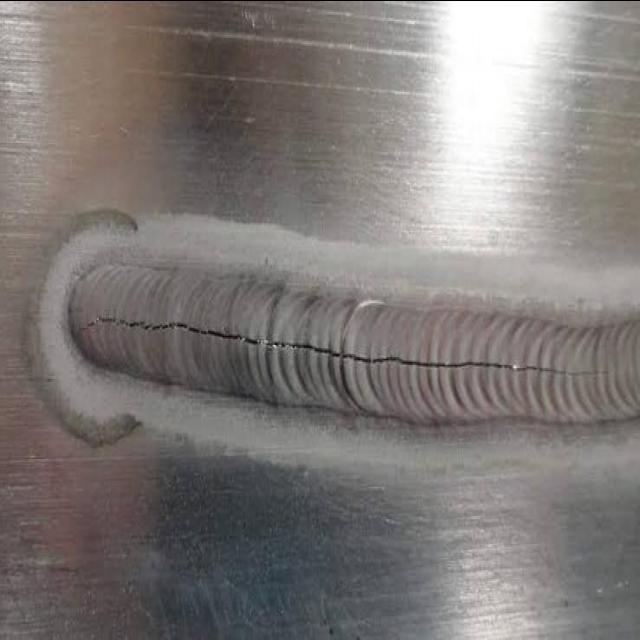Crack: (73, 310, 611, 376)
